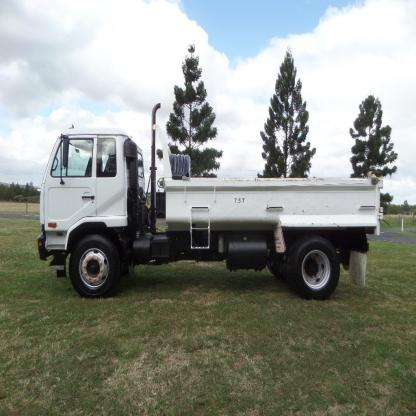dump_truck: (36, 110, 389, 312)
